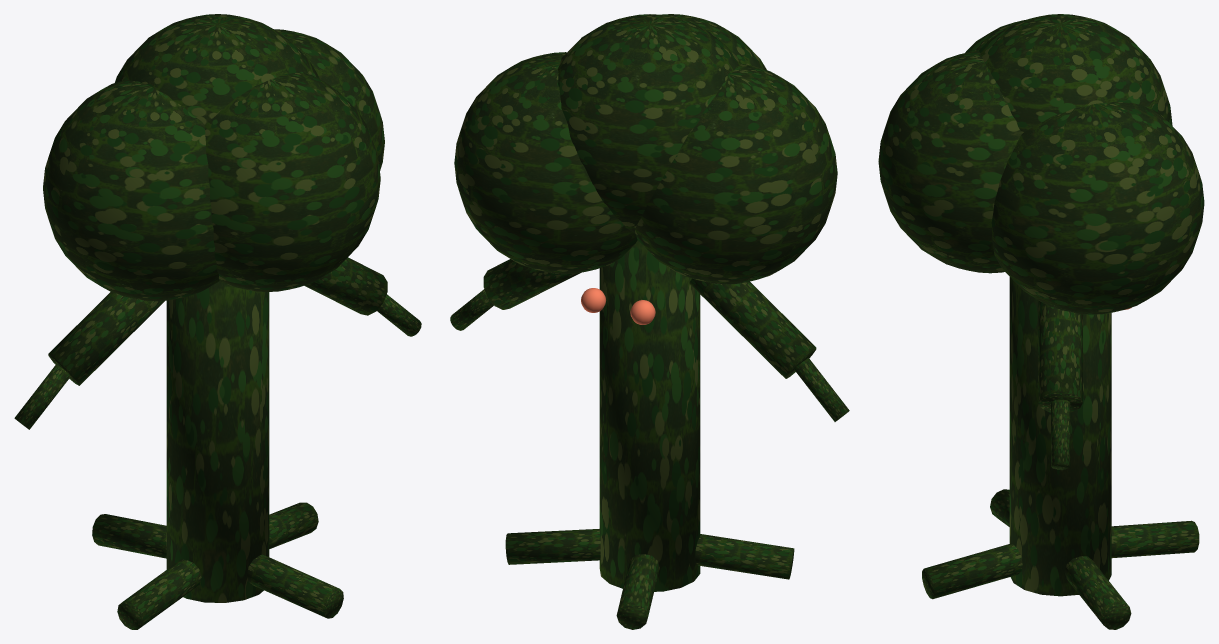
Rendered from dryad.glb.
3 renders of one model, left to right at view 1: azimuth 30°, elevation 25°; view 2: azimuth 150°, elevation 25°; view 3: azimuth 270°, elevation 25°, orthographic.
Parts seen in each view (by area): view 1: Canopy.003, Trunk, Canopy.002, Canopy, BranchArm, Canopy.001, Root.003, Root.002, BranchArm.001, Root.001, Root, Twig (+1 smaller); view 2: Trunk, Canopy.002, Canopy.001, Canopy, BranchArm, Root.002, Root, BranchArm.001, Root.001, Twig, Canopy.003, Twig.001; view 3: Canopy.001, Trunk, Canopy.003, Canopy, BranchArm.001, Root.003, Root.001, Root, Twig.001, Root.002.
Part boxes in pixels (box(x1,y1,x2,y2)): Canopy.003: box(204, 72, 380, 291); Trunk: box(166, 281, 269, 602); Canopy.002: box(43, 80, 219, 301); Canopy: box(115, 14, 319, 124); BranchArm: box(48, 292, 164, 385); Canopy.001: box(274, 29, 384, 170); Root.003: box(247, 554, 343, 618); Root.002: box(117, 559, 201, 629); BranchArm.001: box(304, 257, 387, 315); Root.001: box(92, 514, 166, 558); Root: box(269, 502, 318, 548); Twig: box(14, 364, 70, 429); Trunk: box(599, 240, 700, 591); Canopy.002: box(635, 63, 837, 284); Canopy.001: box(454, 52, 637, 273); Canopy: box(558, 14, 741, 232); BranchArm: box(689, 278, 816, 378); Root.002: box(695, 534, 794, 579); Root: box(505, 529, 600, 564); BranchArm.001: box(483, 259, 580, 309); Root.001: box(616, 554, 659, 629); Twig: box(794, 358, 849, 421); Canopy.003: box(661, 14, 766, 69); Twig.001: box(450, 289, 493, 330); Canopy.001: box(991, 101, 1204, 314); Trunk: box(1009, 277, 1111, 596); Canopy.003: box(878, 50, 1021, 273); Canopy: box(979, 14, 1172, 133); BranchArm.001: box(1038, 300, 1082, 412); Root.003: box(922, 543, 1022, 599); Root.001: box(1111, 520, 1199, 558); Root: box(1064, 556, 1131, 629); Twig.001: box(1051, 399, 1070, 469); Root.002: box(990, 489, 1009, 526).
Bounding box in the file's own units: 0.7592 × 1 × 0.5368.
Materials: 3 (2 with a texture image).
